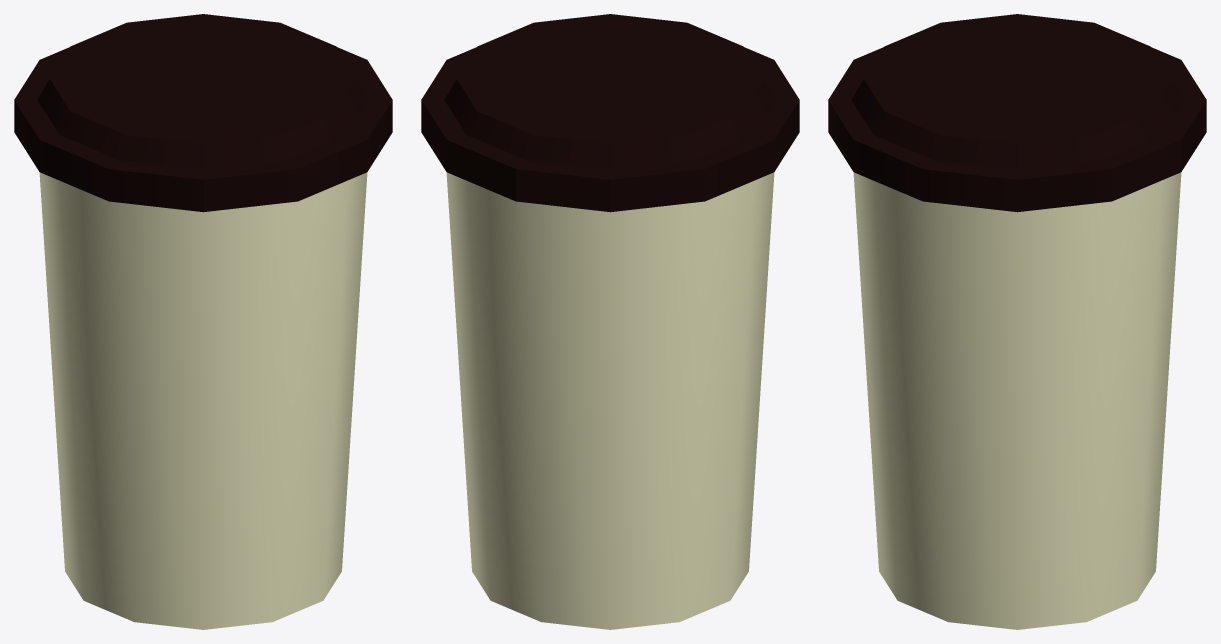
File: s3d_cup1.fbx
3 renders of one model, left to right at view 1: azimuth 30°, elevation 25°; view 2: azimuth 150°, elevation 25°; view 3: azimuth 270°, elevation 25°, orthographic.
Parts seen in each view (by area): view 1: S3DCup1; view 2: S3DCup1; view 3: S3DCup1.
Boxes of the visible parts, <box> form: S3DCup1: <box>14,14,392,629</box>; S3DCup1: <box>421,14,799,629</box>; S3DCup1: <box>828,14,1206,629</box>.
Bounding box in the file's own units: 8.2 × 11.77 × 8.2.
